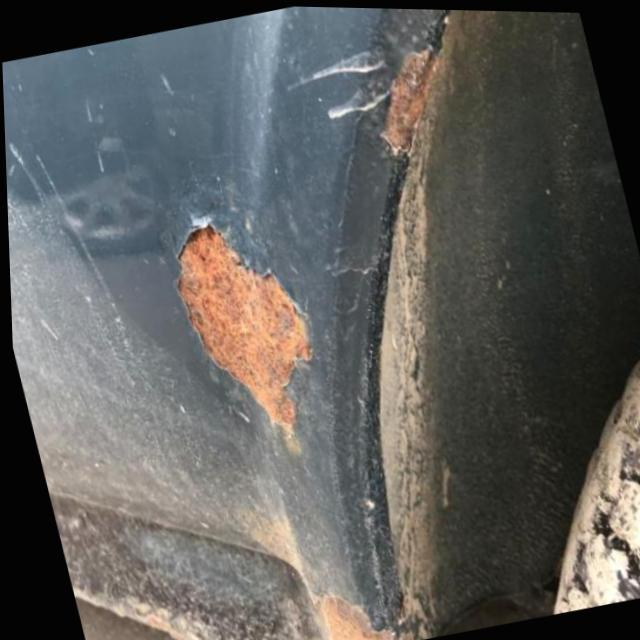Rust: (162, 211, 320, 466), (370, 36, 434, 174), (306, 590, 393, 640)
